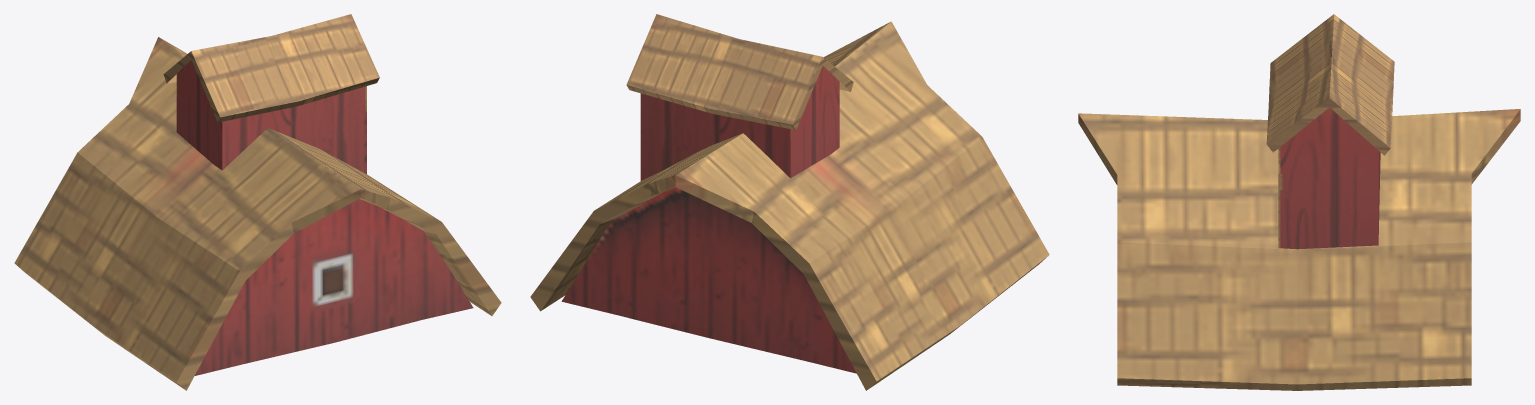
Rendered from bRoof.obj.
3 renders of one model, left to right at view 1: azimuth 30°, elevation 25°; view 2: azimuth 150°, elevation 25°; view 3: azimuth 270°, elevation 25°, orthographic. The views are drawn at different scales.
Visible parts, largest first — view 1: farm_barn_farm_barn_mesh.005_farm_barn_farm_barn_mesh.037; view 2: farm_barn_farm_barn_mesh.005_farm_barn_farm_barn_mesh.037; view 3: farm_barn_farm_barn_mesh.005_farm_barn_farm_barn_mesh.037.
Boxes of the visible parts, x1,y1,x2,y2 form: farm_barn_farm_barn_mesh.005_farm_barn_farm_barn_mesh.037: [14, 14, 501, 390]; farm_barn_farm_barn_mesh.005_farm_barn_farm_barn_mesh.037: [530, 14, 1049, 390]; farm_barn_farm_barn_mesh.005_farm_barn_farm_barn_mesh.037: [1078, 14, 1520, 390].
Bounding box in the file's own units: 4.69 × 3.41 × 5.07.
